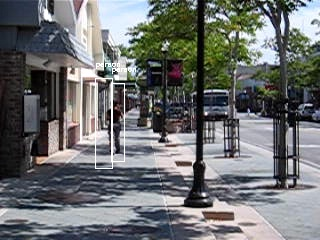person: (110, 99, 129, 156), (109, 99, 128, 156), (111, 99, 130, 156), (110, 98, 129, 155), (110, 100, 129, 157)
target_negative: (117, 86, 319, 212), (175, 6, 226, 165), (294, 71, 314, 227), (65, 40, 91, 74), (303, 214, 308, 238), (271, 214, 297, 216)
